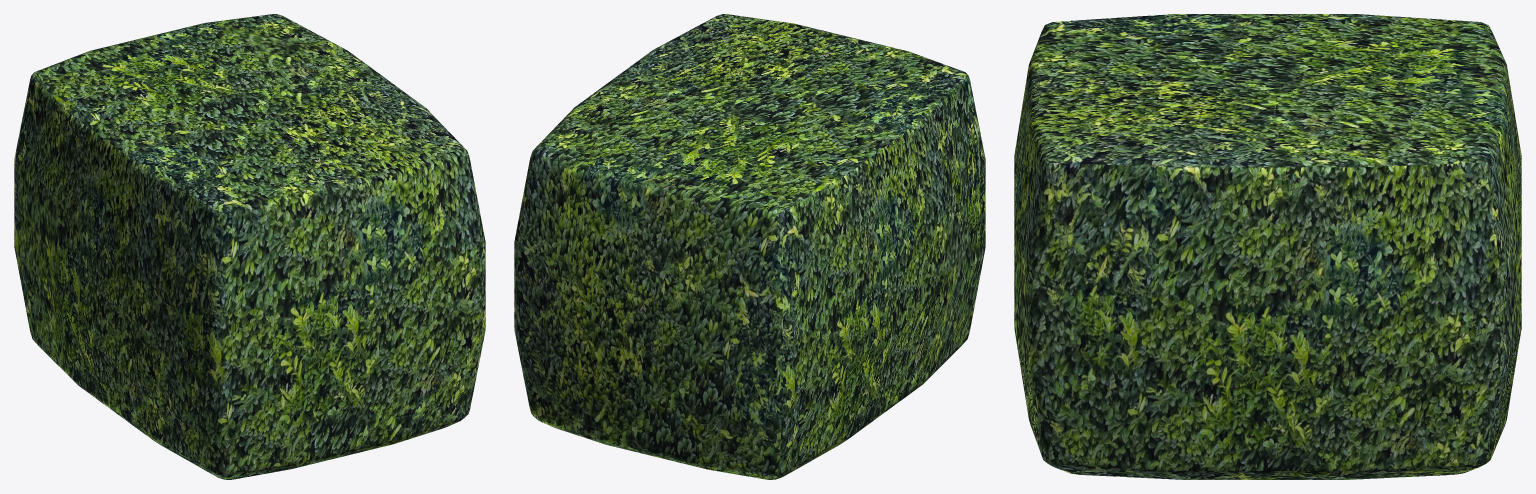
The model's file is hedge.glb.
The picture shows the model from 3 angles, left to right: view 1: azimuth 30°, elevation 25°; view 2: azimuth 150°, elevation 25°; view 3: azimuth 270°, elevation 25°; orthographic projection. The views are drawn at different scales.
Visible parts, largest first — view 1: square_hedge_lambert1_0; view 2: square_hedge_lambert1_0; view 3: square_hedge_lambert1_0.
Part boxes in pixels (<box>): square_hedge_lambert1_0: <box>14,14,485,479</box>; square_hedge_lambert1_0: <box>514,14,985,479</box>; square_hedge_lambert1_0: <box>1014,14,1521,479</box>.
Bounding box in the file's own units: 1.57 × 1.44 × 2.
1 material, 1 textured.
